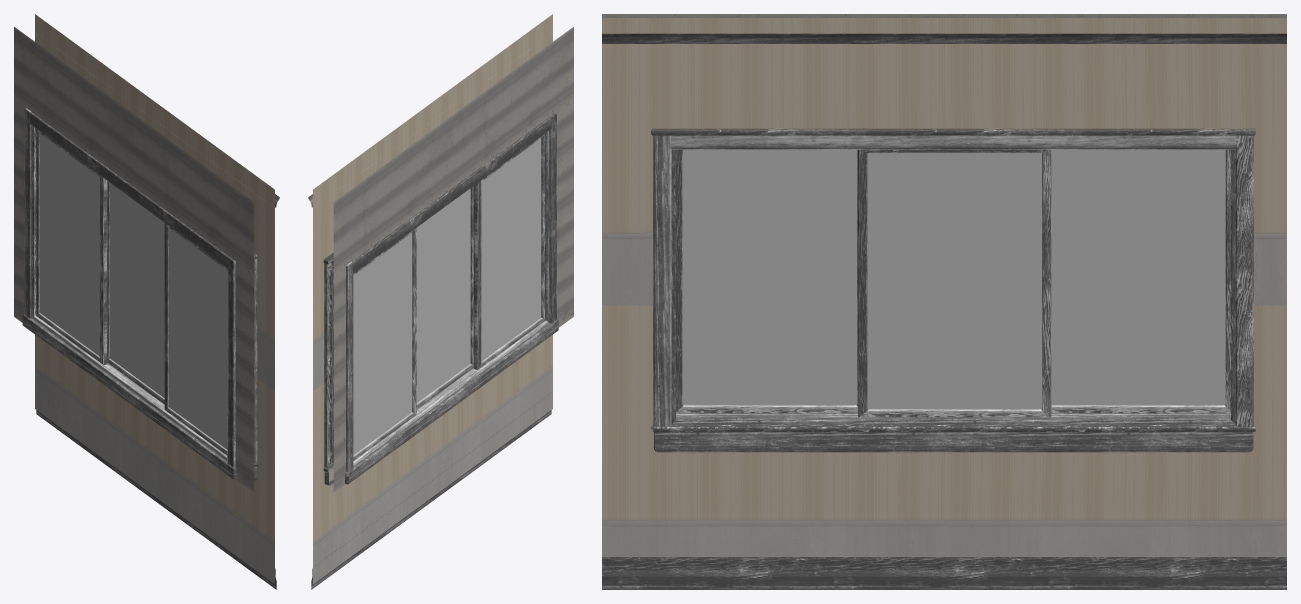
The model's file is SM_Window_Floor2_C1_400.fbx.
3 renders of one model, left to right at view 1: azimuth 30°, elevation 25°; view 2: azimuth 150°, elevation 25°; view 3: azimuth 270°, elevation 25°, orthographic. The views are drawn at different scales.
Visible parts, largest first — view 1: SM_Window_Floor2_C1_400_LOD0; view 2: SM_Window_Floor2_C1_400_LOD0; view 3: SM_Window_Floor2_C1_400_LOD0.
Boxes of the visible parts, left/top/right/bottom form: SM_Window_Floor2_C1_400_LOD0: left=14, top=14, right=279, bottom=589; SM_Window_Floor2_C1_400_LOD0: left=308, top=14, right=573, bottom=589; SM_Window_Floor2_C1_400_LOD0: left=602, top=14, right=1286, bottom=589.
Size of the model in its own units: 19.41 by 280 by 258.
5 materials, 4 textured.
